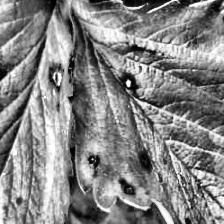Leaf Spot: (66, 0, 224, 224), (0, 0, 74, 224)
